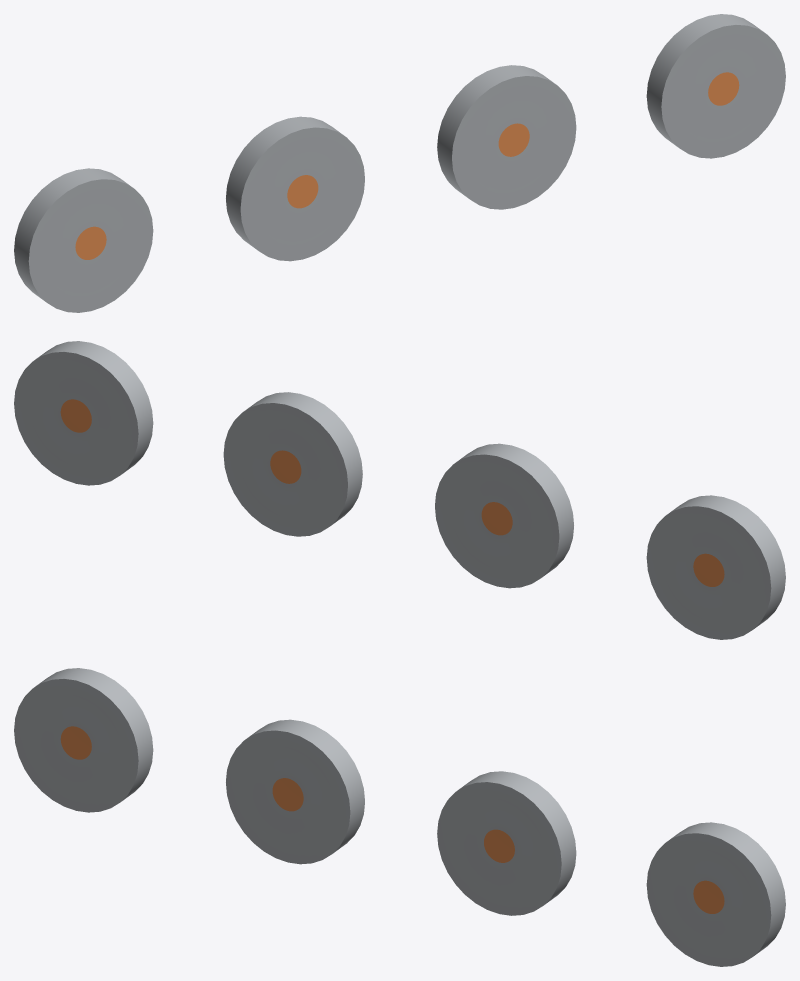
Rendered from buttons.glb.
The picture shows the model from 3 angles, top to bottom: view 1: azimuth 30°, elevation 25°; view 2: azimuth 150°, elevation 25°; view 3: azimuth 330°, elevation 25°; orthographic projection.
Parts seen in each view (by area): view 1: main, contact, projects, about; view 2: main, contact, projects, about; view 3: main, contact, projects, about.
Boxes of the visible parts, x1,y1,x2,y2 form: main: (14,168,153,312); contact: (646,14,785,158); projects: (437,65,576,209); about: (226,116,364,261); main: (646,495,785,639); contact: (14,341,153,485); projects: (223,392,362,536); about: (435,443,573,588); main: (14,668,153,812); contact: (646,822,785,966); projects: (437,771,576,915); about: (226,719,364,864).
Bounding box in the file's own units: 0.86 × 0.1415 × 0.0291.
